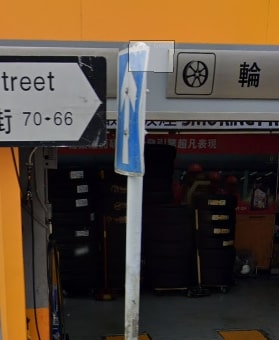One Way Traffic: (110, 45, 150, 185)
